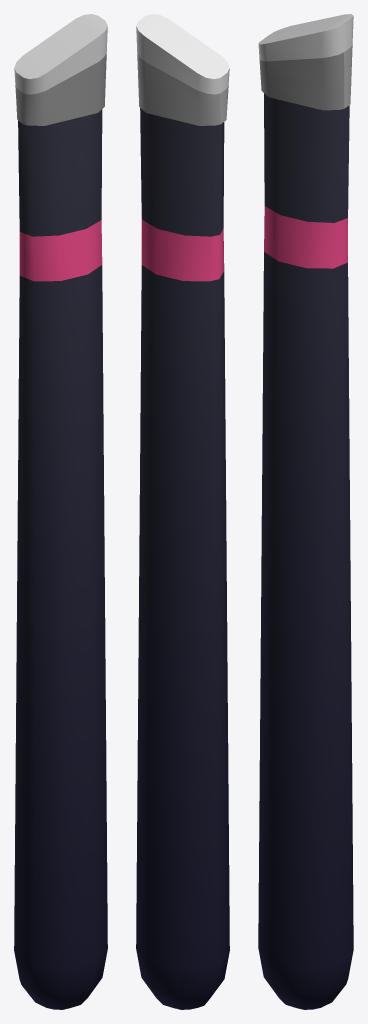
Rendered from Brush_05.fbx.
The picture shows the model from 3 angles, left to right: view 1: azimuth 30°, elevation 25°; view 2: azimuth 150°, elevation 25°; view 3: azimuth 330°, elevation 25°; orthographic projection.
Parts seen in each view (by area): view 1: Brush_05; view 2: Brush_05; view 3: Brush_05.
Part boxes in pixels (<box>): Brush_05: <box>14,14,107,1009</box>; Brush_05: <box>136,14,229,1009</box>; Brush_05: <box>258,14,353,1009</box>.
Size of the model in its own units: 0.0101 by 0.1158 by 0.00871.
1 material, 1 textured.
